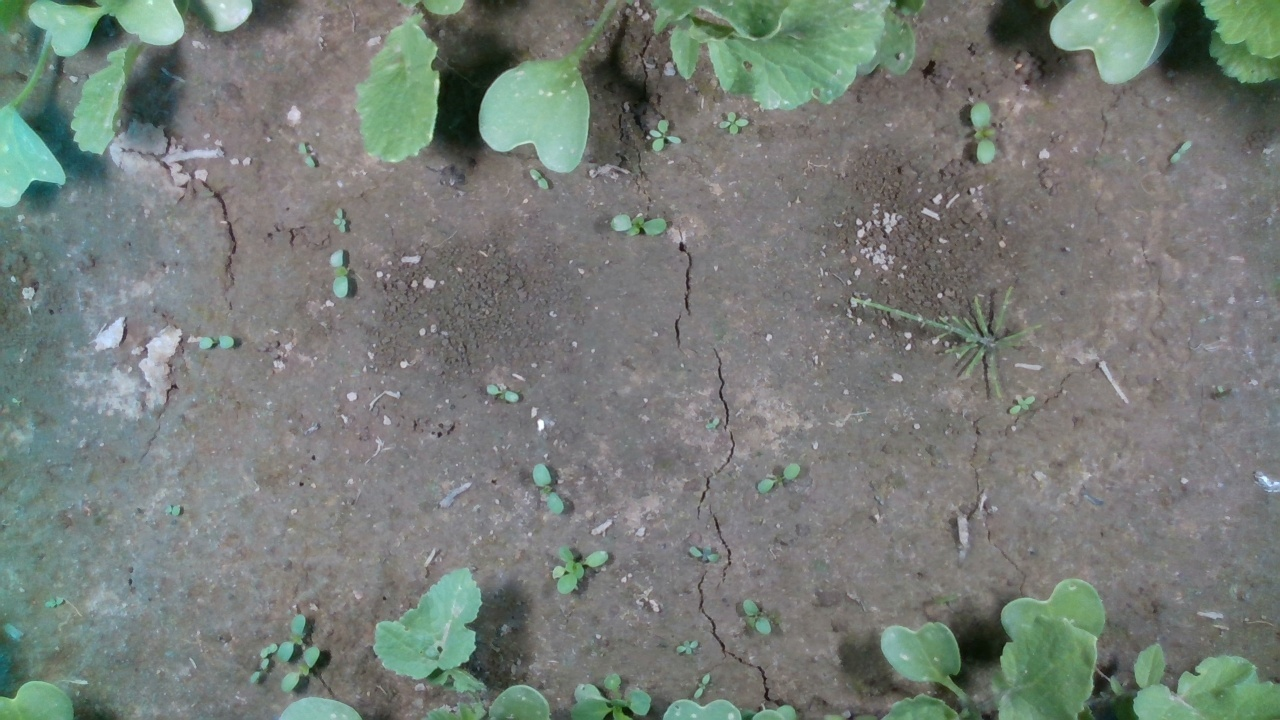weed: (531, 462, 564, 516), (969, 101, 995, 165), (610, 213, 667, 238), (757, 462, 800, 494), (741, 598, 773, 636), (647, 118, 681, 153), (329, 246, 350, 300), (717, 111, 749, 136), (194, 333, 236, 350), (485, 383, 520, 403), (1008, 392, 1037, 415), (687, 545, 721, 564), (248, 656, 270, 685), (296, 141, 316, 169), (692, 671, 711, 700), (528, 167, 549, 192), (331, 206, 348, 233), (675, 638, 699, 655)
